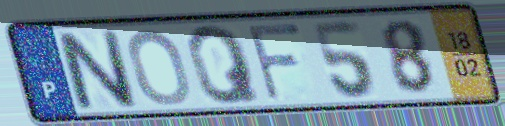5: (308, 17, 378, 102)
8: (380, 17, 438, 97)
F: (244, 20, 306, 104)
N: (50, 28, 143, 113)
O: (125, 27, 193, 108)
Q: (183, 22, 265, 107)
